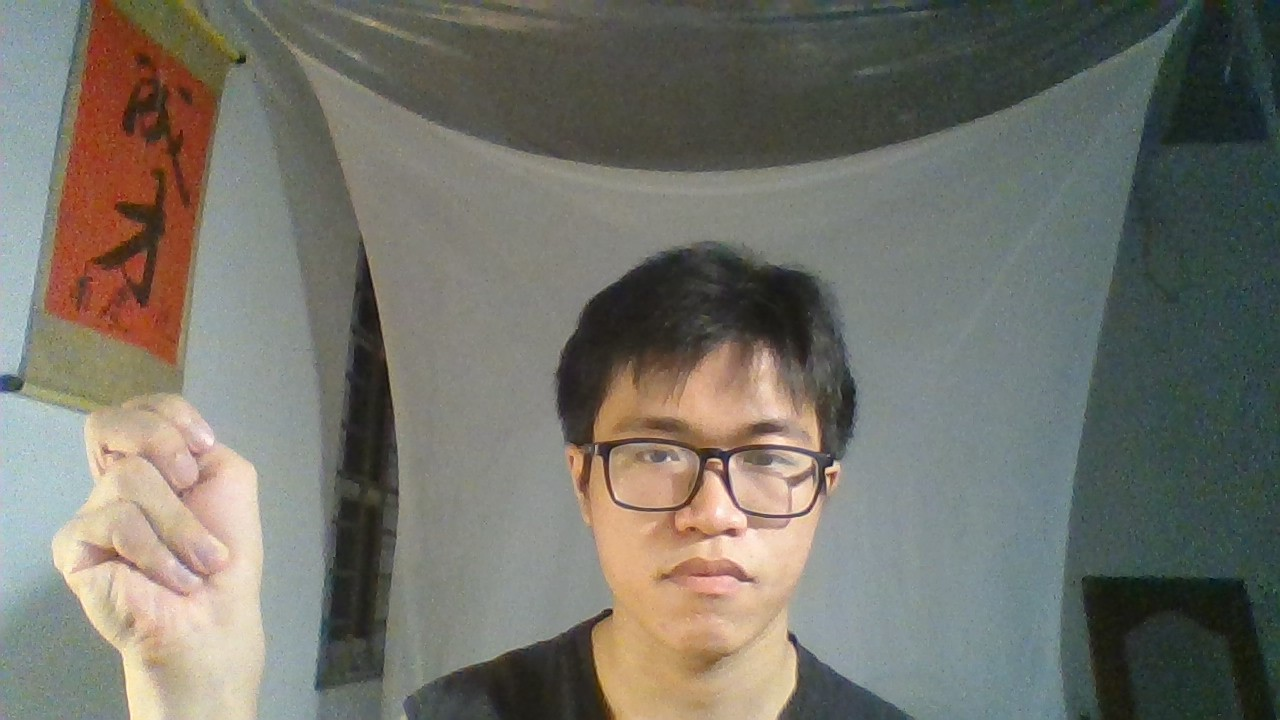n: (12, 363, 319, 674)
